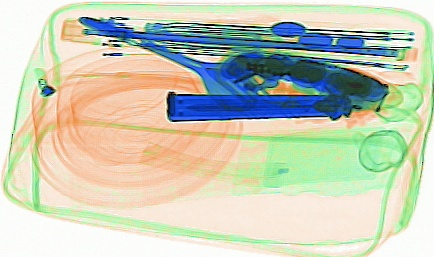knife: (166, 88, 352, 122)
